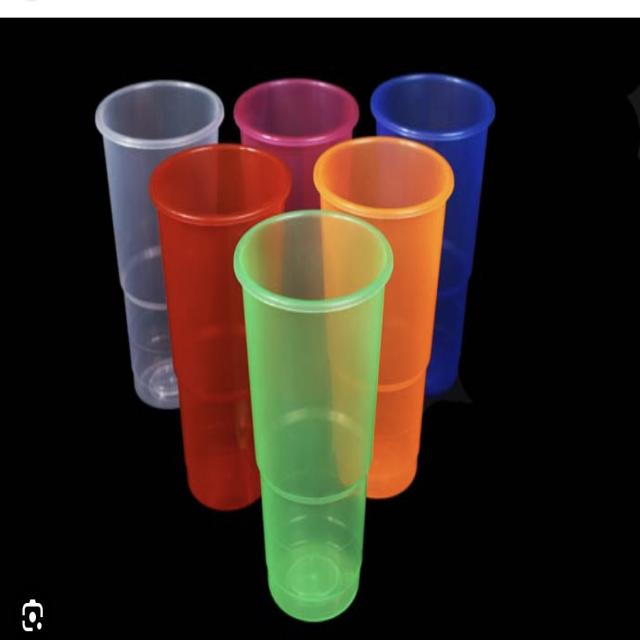recyclable: (232, 193, 398, 628), (145, 124, 299, 516), (306, 123, 449, 498), (84, 62, 223, 433), (368, 47, 508, 408)
